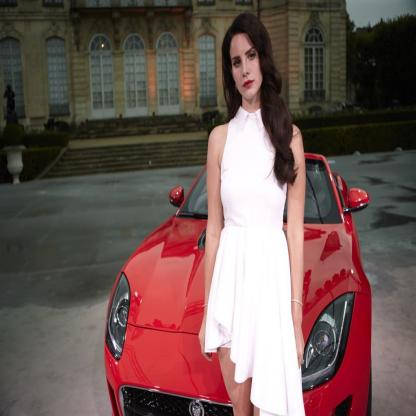Car: (108, 93, 366, 410)
